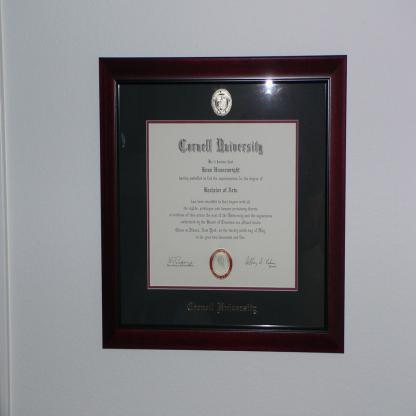Picture-frame: (100, 56, 348, 354)
